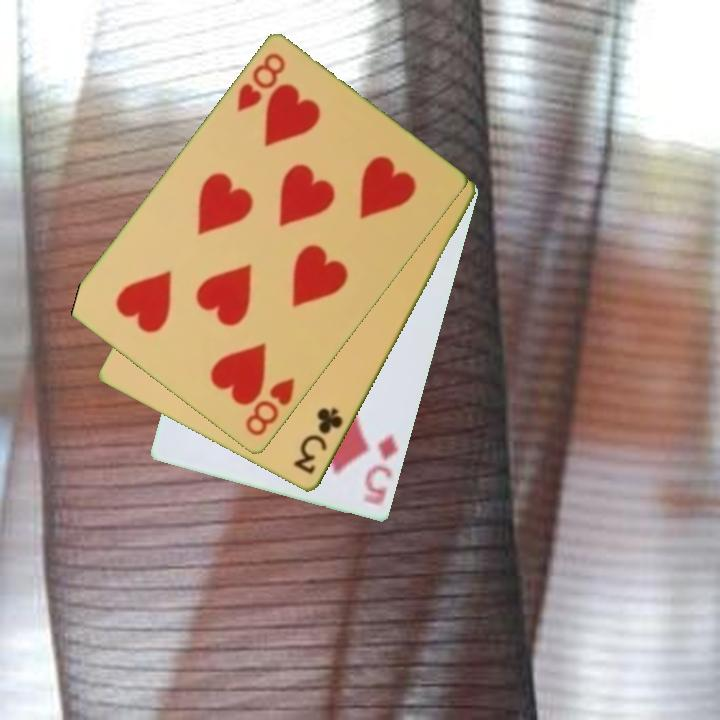3c: (290, 404, 346, 478)
5d: (360, 430, 401, 509)
8h: (241, 374, 298, 440), (233, 49, 289, 116)
